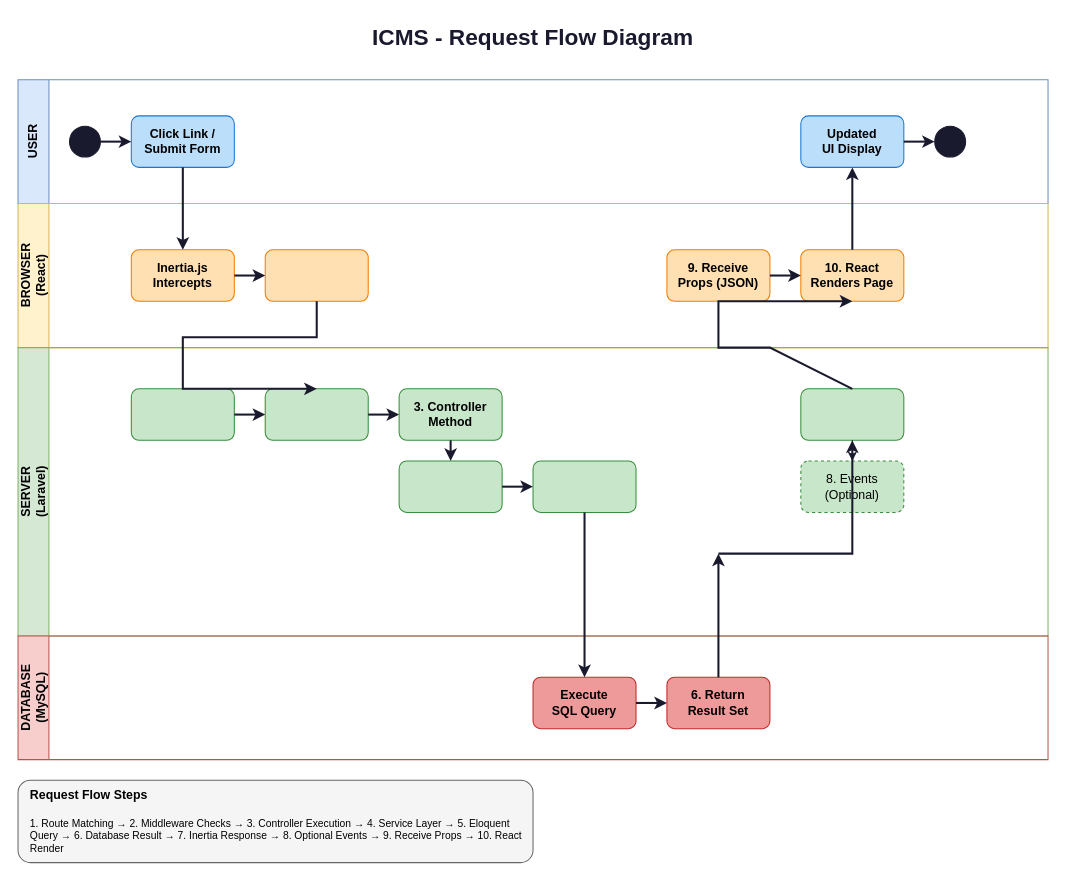
Some shapes in this 1066 by 881 pixel diagram are drawn without their labels. The centre of each missing label's shape, as x and y in pixels:
"1. Route Matching" goes at [182,414].
"2. Middleware (Auth, CSRF)" goes at [316,414].
"4. Service Layer" goes at [450,486].
"5. Eloquent Query" goes at [584,486].
"7. Inertia Response" goes at [852,414].
"XHR Request (JSON)" goes at [316,275].
